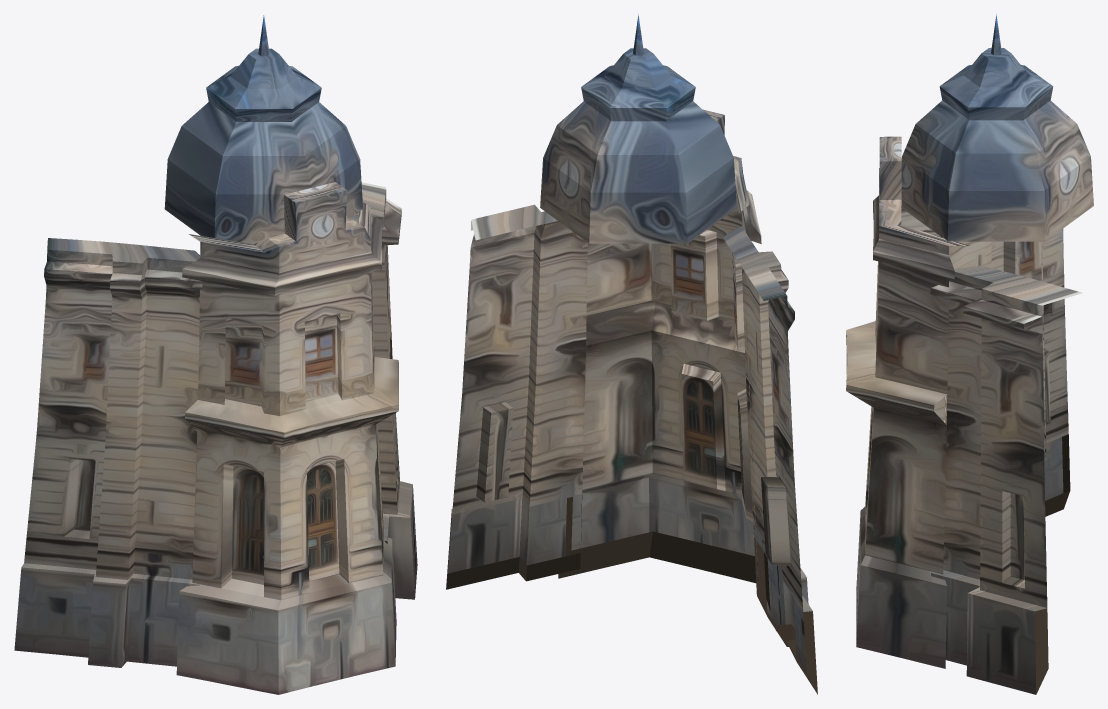
Rendered from House_3.fbx.
3 renders of one model, left to right at view 1: azimuth 30°, elevation 25°; view 2: azimuth 150°, elevation 25°; view 3: azimuth 270°, elevation 25°, orthographic.
Visible parts, largest first — view 1: House_2; view 2: House_2; view 3: House_2.
Part boxes in pixels (x1,y1,x2,y2): House_2: [14, 15, 417, 694]; House_2: [446, 14, 817, 694]; House_2: [846, 14, 1093, 694].
Bounding box in the file's own units: 70.82 × 107 × 39.78.
